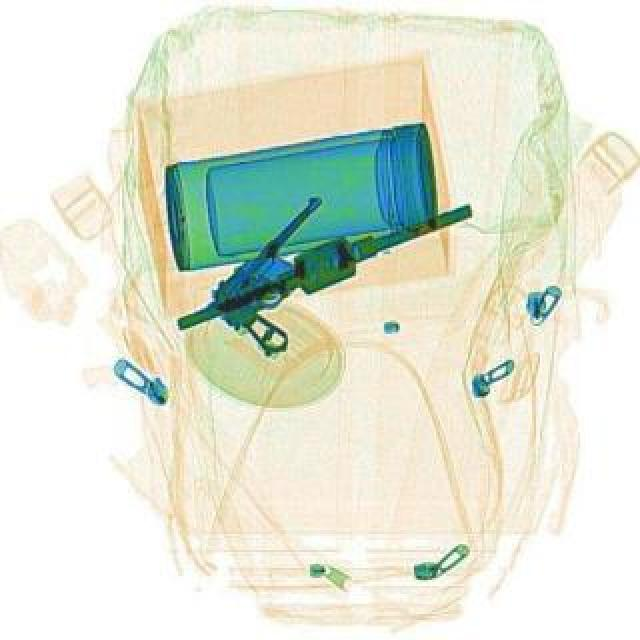gun: (194, 184, 382, 362)
